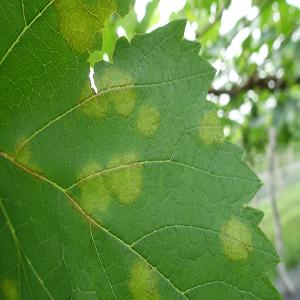Folha: (0, 0, 283, 298)
Fungo: (74, 150, 142, 214), (75, 63, 136, 122), (54, 0, 118, 51), (104, 152, 142, 205), (75, 160, 111, 214), (220, 216, 254, 262), (128, 257, 160, 299), (198, 108, 224, 145), (136, 104, 160, 138), (112, 86, 136, 118), (2, 277, 18, 299)
